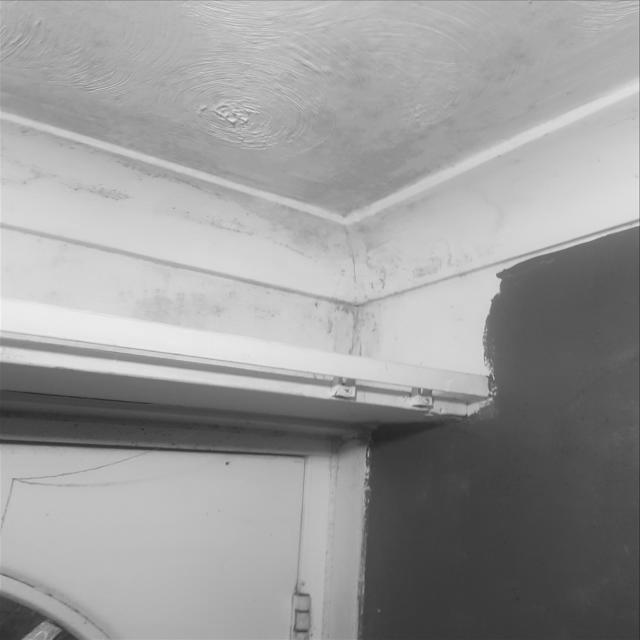stain marks: (0, 0, 553, 380)
